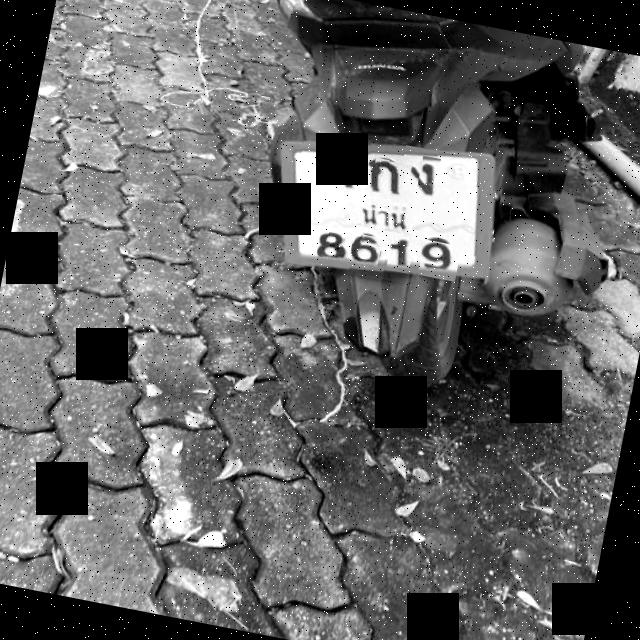letters: (320, 150, 366, 198), (416, 239, 462, 282), (370, 158, 408, 198), (348, 232, 384, 270), (386, 232, 416, 274), (316, 225, 346, 261), (416, 156, 441, 198)
license-plate: (285, 151, 490, 271)
province: (354, 196, 416, 236)
